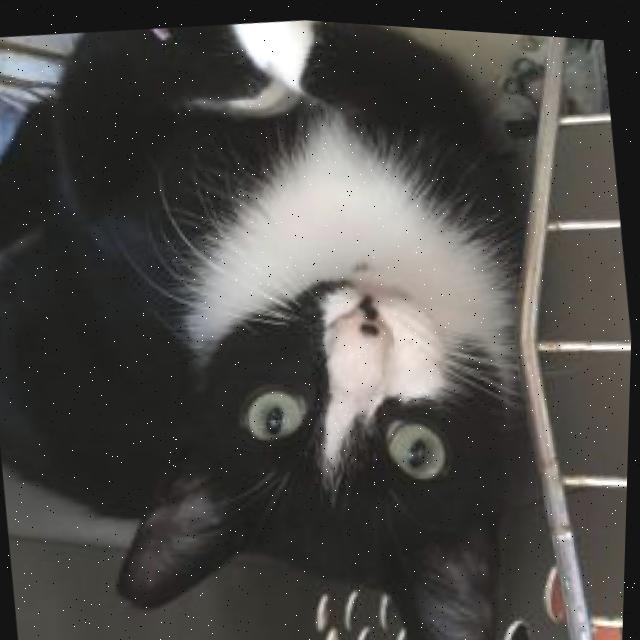Tuxedo: (0, 0, 590, 640)
